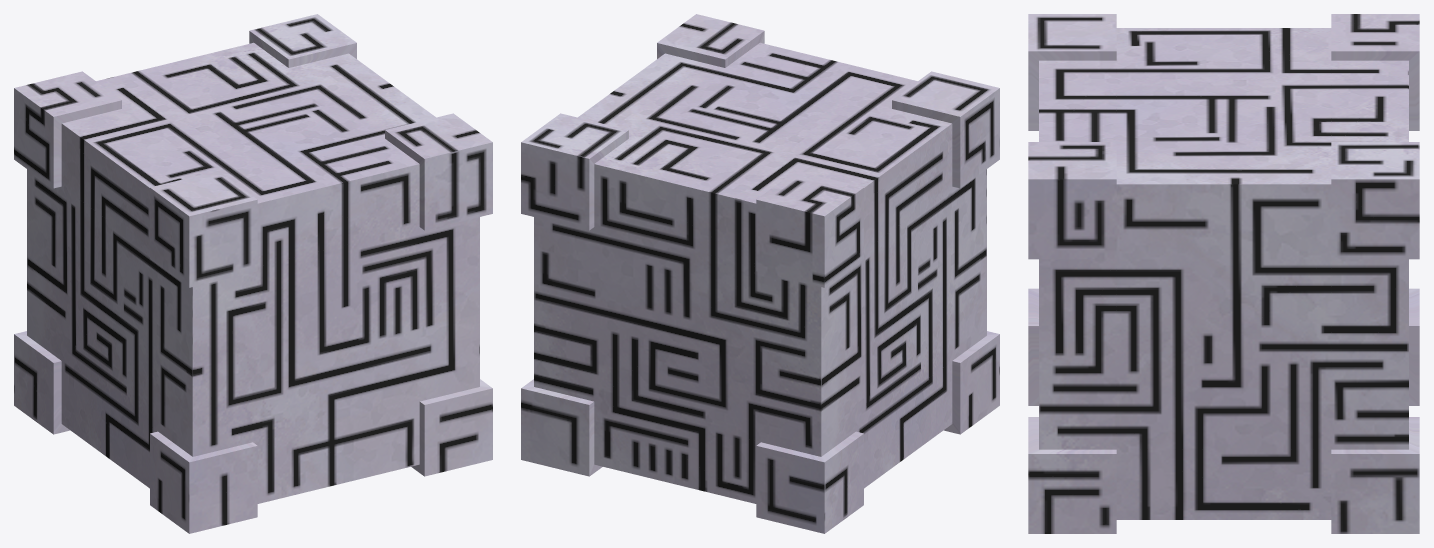
The picture shows the model from 3 angles, left to right: view 1: azimuth 30°, elevation 25°; view 2: azimuth 150°, elevation 25°; view 3: azimuth 270°, elevation 25°; orthographic projection. The views are drawn at different scales.
Parts seen in each view (by area): view 1: Cube1; view 2: Cube1; view 3: Cube1.
Part boxes in pixels (left/top/right/bottom): Cube1: left=14, top=14, right=492, bottom=533; Cube1: left=521, top=14, right=999, bottom=533; Cube1: left=1028, top=14, right=1419, bottom=533.
Size of the model in its own units: 1.27 by 1.27 by 1.27.
1 material, 1 textured.
